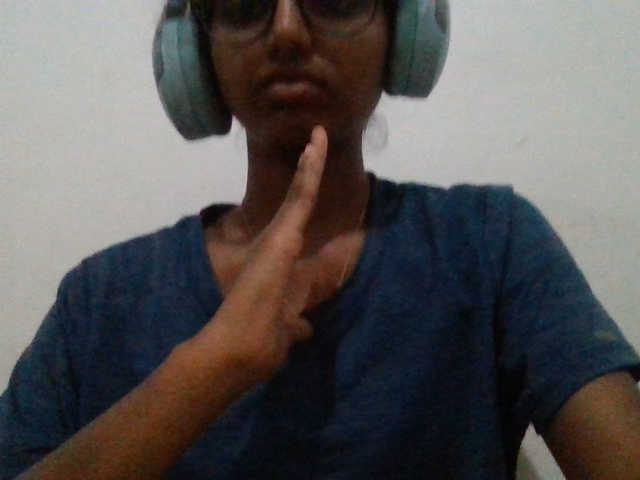Fine: (128, 83, 378, 417)
